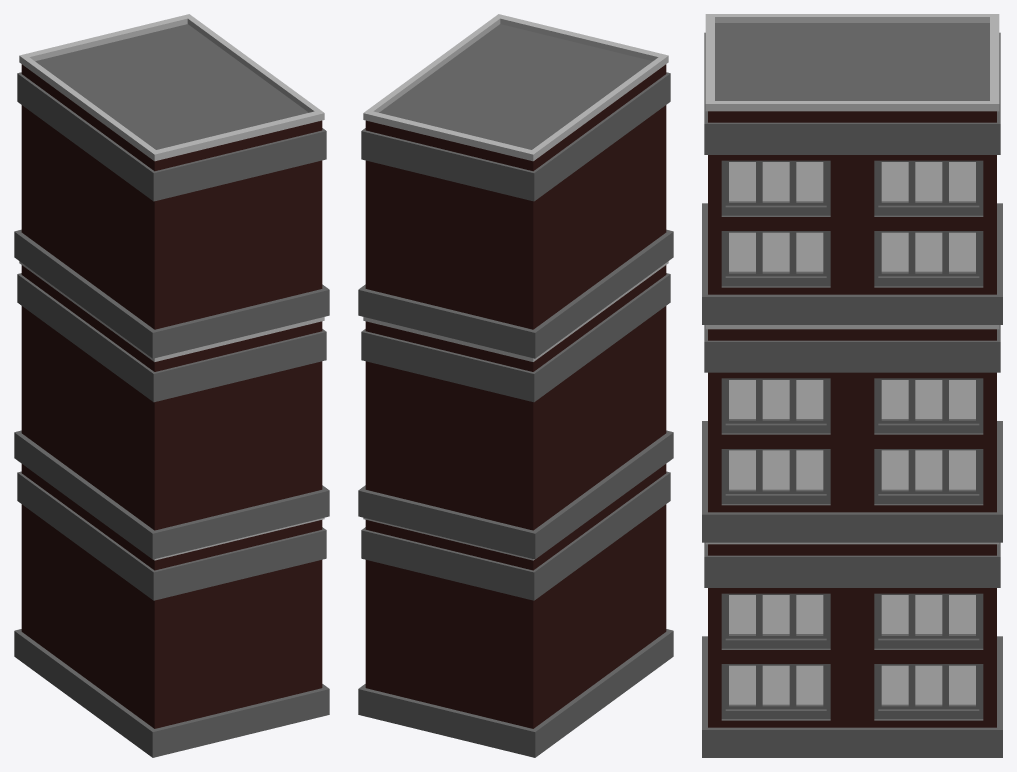
File: Building2.fbx
The picture shows the model from 3 angles, left to right: view 1: azimuth 30°, elevation 25°; view 2: azimuth 150°, elevation 25°; view 3: azimuth 270°, elevation 25°; orthographic projection. The views are drawn at different scales.
Visible parts, largest first — view 1: Cube.004; view 2: Cube.004; view 3: Cube.004.
Boxes of the visible parts, x1=… form: Cube.004: x1=14, y1=14, x2=329, y2=757; Cube.004: x1=358, y1=14, x2=673, y2=757; Cube.004: x1=702, y1=14, x2=1002, y2=757.
Size of the model in its own units: 128 by 417 by 174.
